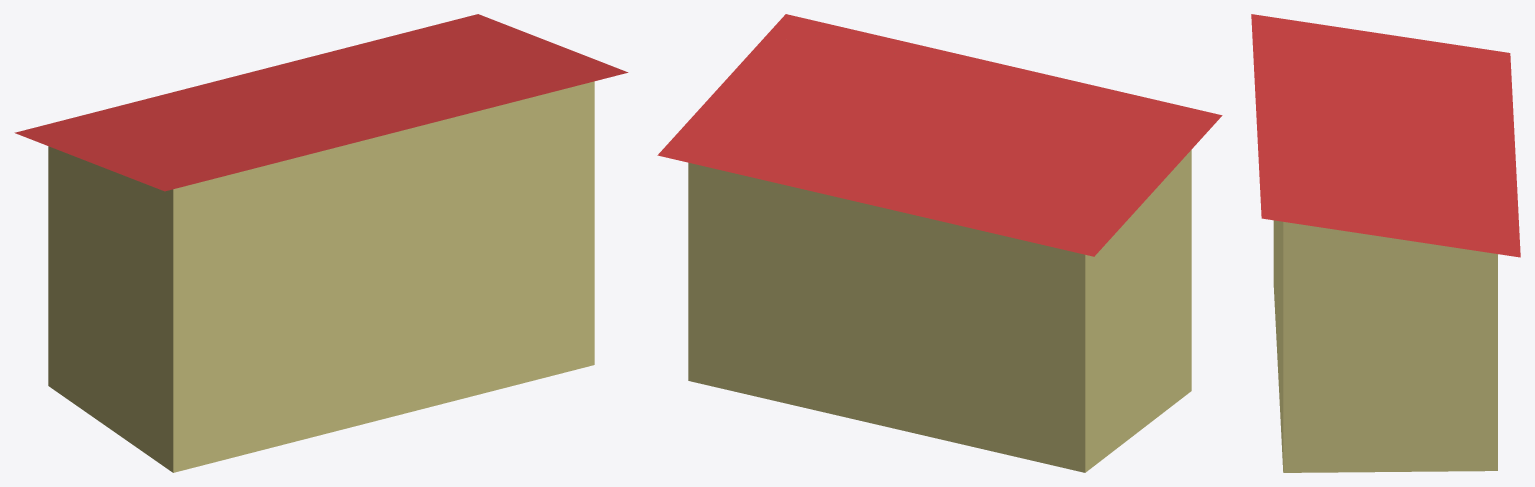
The picture shows the model from 3 angles, left to right: view 1: azimuth 30°, elevation 25°; view 2: azimuth 150°, elevation 25°; view 3: azimuth 270°, elevation 25°; orthographic projection. The views are drawn at different scales.
Size of the model in its own units: 11.07 by 6.1 by 6.59.
